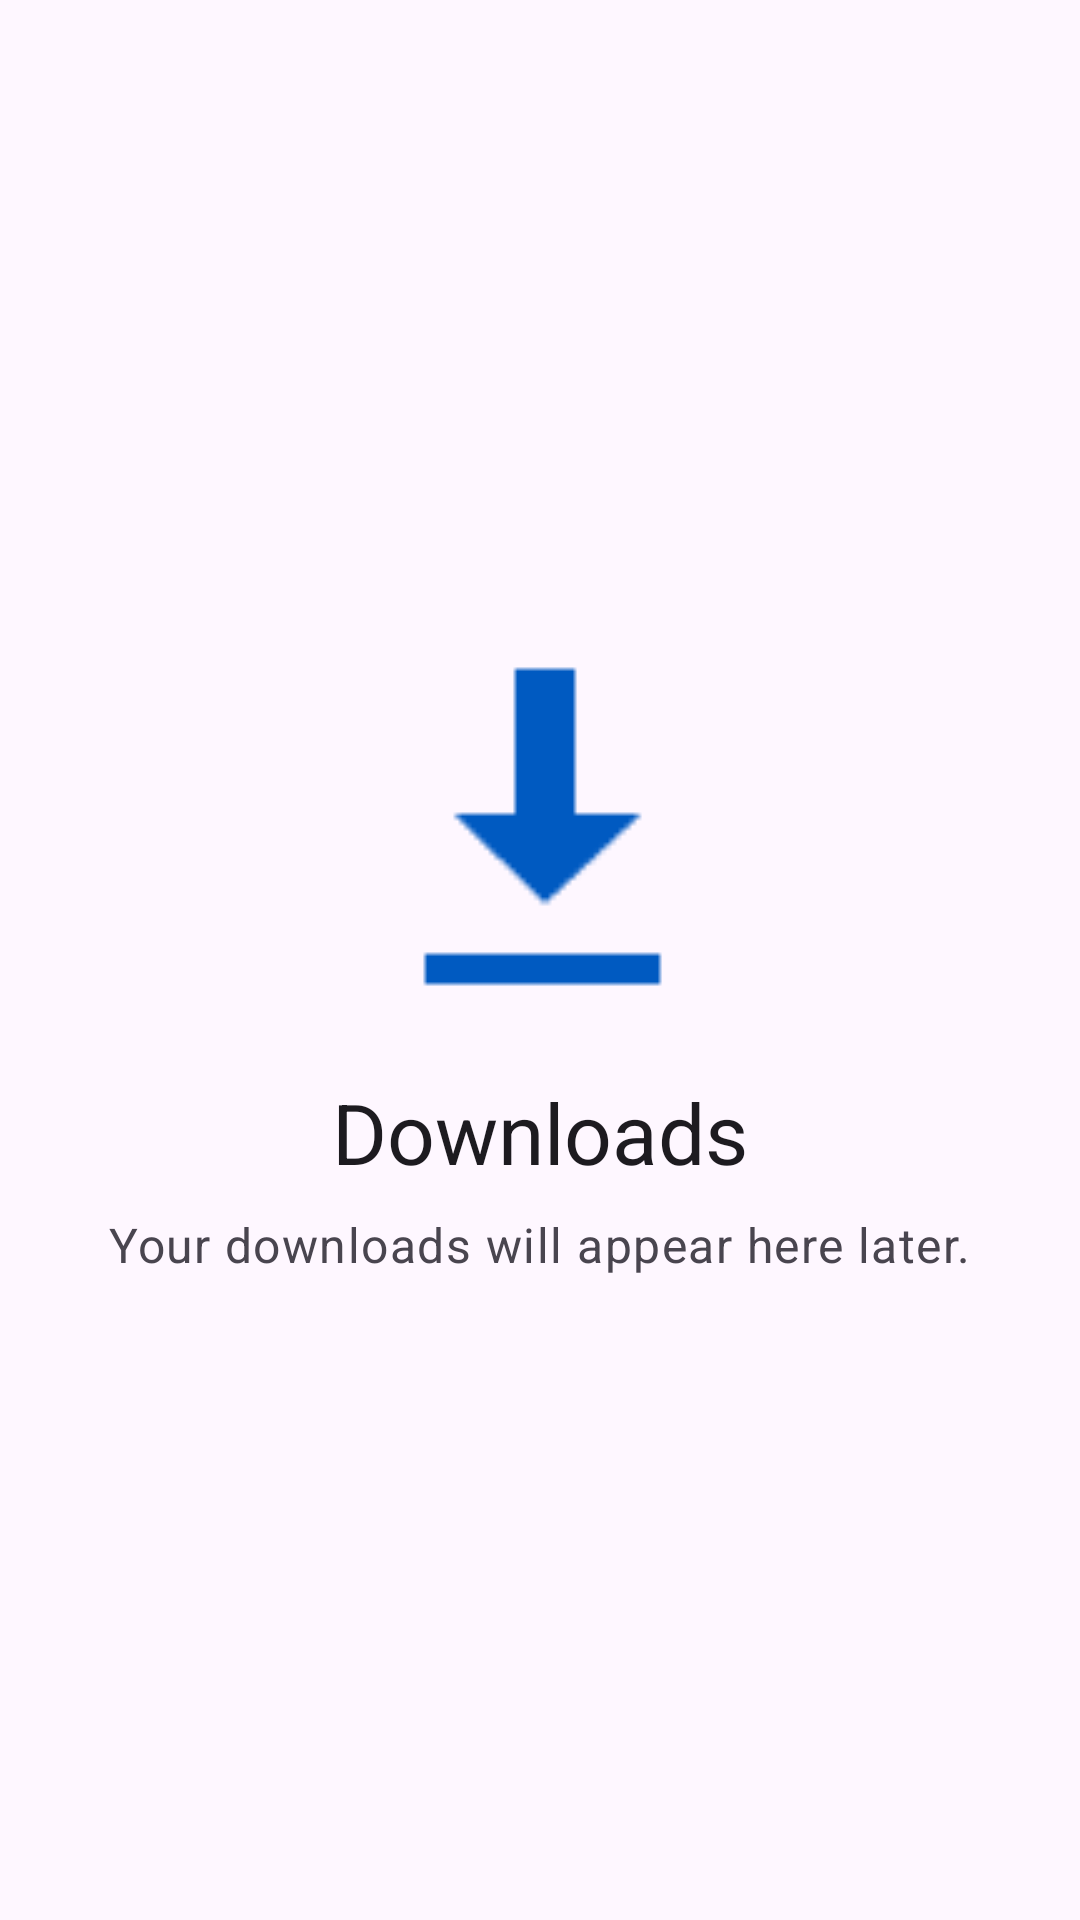

Icon click points for this 1080*1920 phone screenshot, format point (x, y):
download done: point (542, 826)
